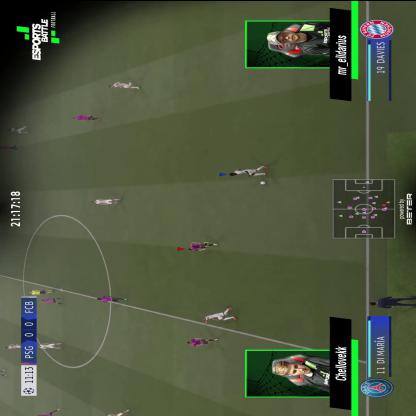ball: (259, 180, 266, 184)
